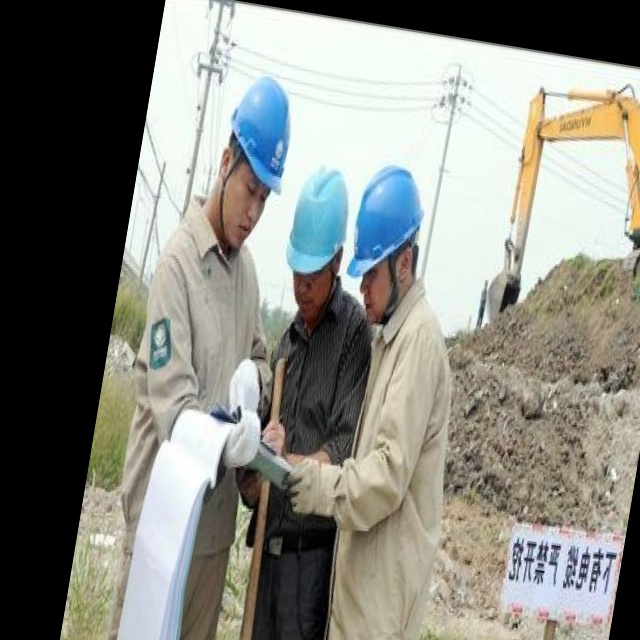Con_Casco: (338, 162, 433, 328), (277, 164, 354, 317)
